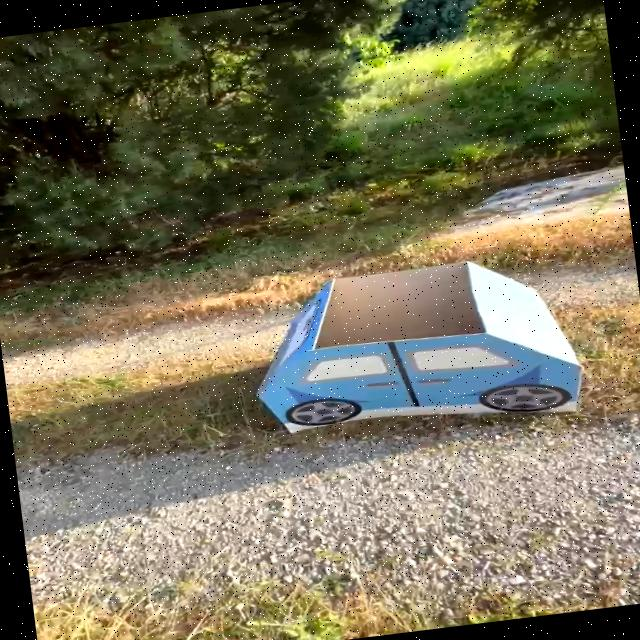blue_car: (225, 229, 633, 464)
